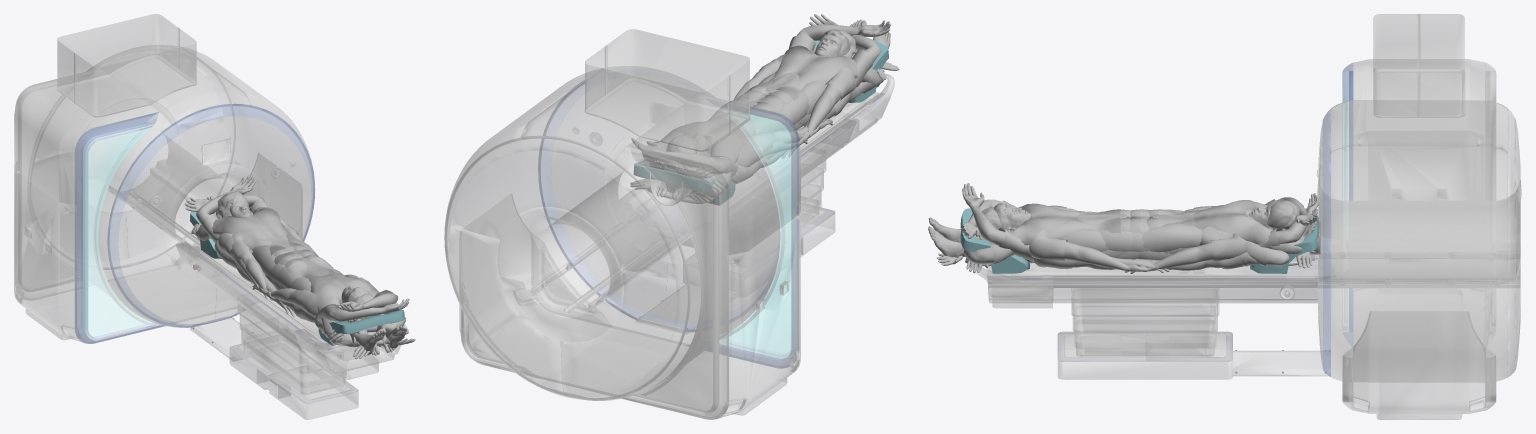
File: Mike.glb
3 views of the same model, side by side, from view 1: azimuth 30°, elevation 25°; view 2: azimuth 150°, elevation 25°; view 3: azimuth 270°, elevation 25° (orthographic). The views are drawn at different scales.
Visible parts, largest first — view 1: SM_MRI_base, Table, scrubShirt_geo9, M4_baseMesh_geo1.001, scrubShirt_geo5, M4_baseMesh_geo1, SM_MRI_bed_inOut.001, SM_head_arm_rest1.001, M4_baseMesh_geo3, M4_baseMesh_geo8, scrubShirt_geo8, scrubPants_geo1.001 (+7 smaller); view 2: SM_MRI_base, Table, scrubShirt_geo5, M4_baseMesh_geo1.001, M4_baseMesh_geo1, scrubShirt_geo9, SM_head_arm_rest1, scrubShirt_geo1.001, M4_baseMesh_geo6, scrubShirt_geo8, scrubShirt_geo10, scrubPants_geo1.001 (+10 smaller); view 3: SM_MRI_base, Table, SM_MRI_bed_inOut.001, scrubShirt_geo9, M4_baseMesh_geo1.001, scrubShirt_geo5, M4_baseMesh_geo1, scrubShirt_geo8, M4_baseMesh_geo6, scrubPants_geo1.001, scrubShirt_geo6, SM_head_arm_rest1.001 (+9 smaller).
Boxes of the visible parts, x1,y1,x2,y2 form: SM_MRI_base: [14, 14, 315, 343]; Table: [176, 242, 408, 419]; scrubShirt_geo9: [198, 207, 301, 254]; M4_baseMesh_geo1.001: [206, 192, 409, 321]; scrubShirt_geo5: [303, 268, 379, 336]; M4_baseMesh_geo1: [184, 175, 381, 333]; SM_MRI_bed_inOut.001: [200, 251, 355, 351]; SM_head_arm_rest1.001: [318, 309, 404, 345]; M4_baseMesh_geo3: [263, 272, 407, 355]; M4_baseMesh_geo8: [191, 232, 394, 355]; scrubShirt_geo8: [230, 223, 316, 264]; scrubPants_geo1.001: [252, 234, 317, 273]; SM_MRI_base: [444, 29, 800, 419]; Table: [619, 73, 894, 333]; scrubShirt_geo5: [749, 45, 878, 96]; M4_baseMesh_geo1.001: [664, 14, 891, 168]; M4_baseMesh_geo1: [631, 134, 729, 178]; scrubShirt_geo9: [660, 117, 744, 189]; SM_head_arm_rest1: [633, 161, 734, 205]; scrubShirt_geo1.001: [765, 35, 872, 92]; M4_baseMesh_geo6: [656, 67, 841, 199]; scrubShirt_geo8: [719, 93, 784, 152]; scrubShirt_geo10: [732, 100, 772, 166]; scrubPants_geo1.001: [710, 100, 787, 134]; SM_MRI_base: [1317, 14, 1521, 419]; Table: [971, 254, 1330, 379]; SM_MRI_bed_inOut.001: [1011, 263, 1286, 279]; scrubShirt_geo9: [1157, 200, 1286, 253]; M4_baseMesh_geo1.001: [960, 183, 1316, 245]; scrubShirt_geo5: [989, 203, 1120, 245]; M4_baseMesh_geo1: [1248, 193, 1318, 244]; scrubShirt_geo8: [1139, 205, 1269, 266]; M4_baseMesh_geo6: [1064, 209, 1314, 271]; scrubPants_geo1.001: [1141, 209, 1199, 247]; scrubShirt_geo6: [1029, 205, 1120, 260]; SM_head_arm_rest1.001: [960, 208, 1029, 273].
Bounding box in the file's own units: 1.94 × 2.02 × 3.64.
6 materials, 3 textured.
